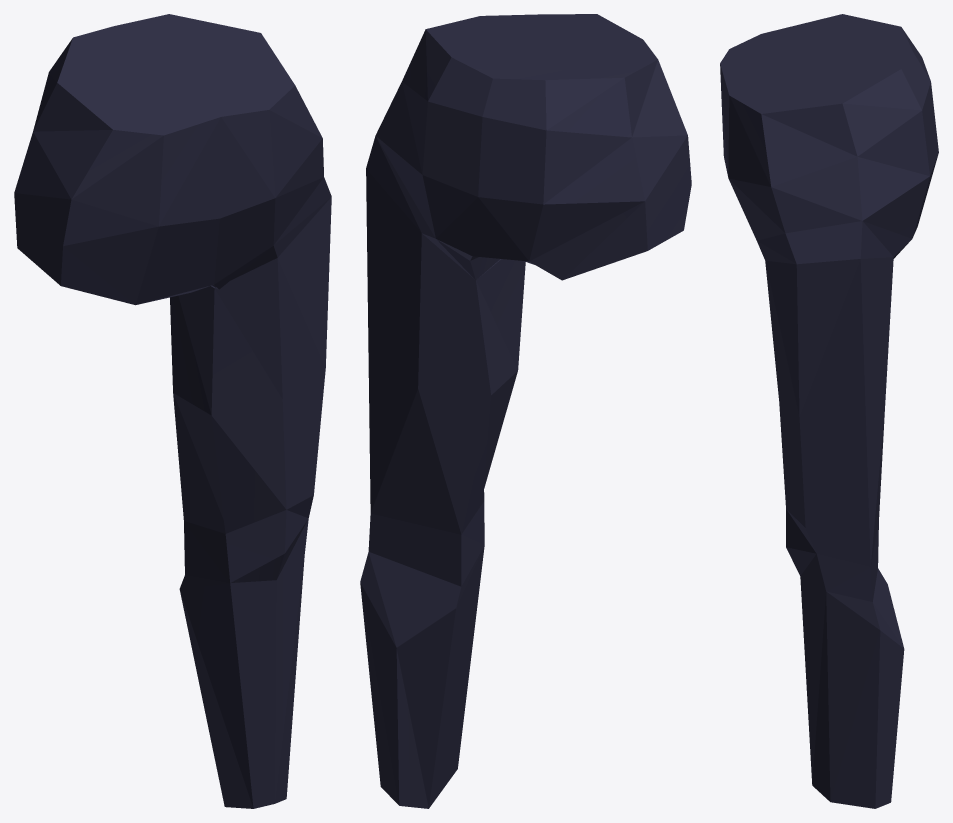
The model's file is pants.fbx.
The picture shows the model from 3 angles, left to right: view 1: azimuth 30°, elevation 25°; view 2: azimuth 150°, elevation 25°; view 3: azimuth 270°, elevation 25°; orthographic projection. The views are drawn at different scales.
Parts seen in each view (by area): view 1: pants; view 2: pants; view 3: pants.
Boxes of the visible parts, left/top/right/bottom form: pants: left=14, top=14, right=331, bottom=808; pants: left=360, top=14, right=691, bottom=808; pants: left=720, top=14, right=938, bottom=808.
Bounding box in the file's own units: 34.48 × 90.9 × 25.3.
